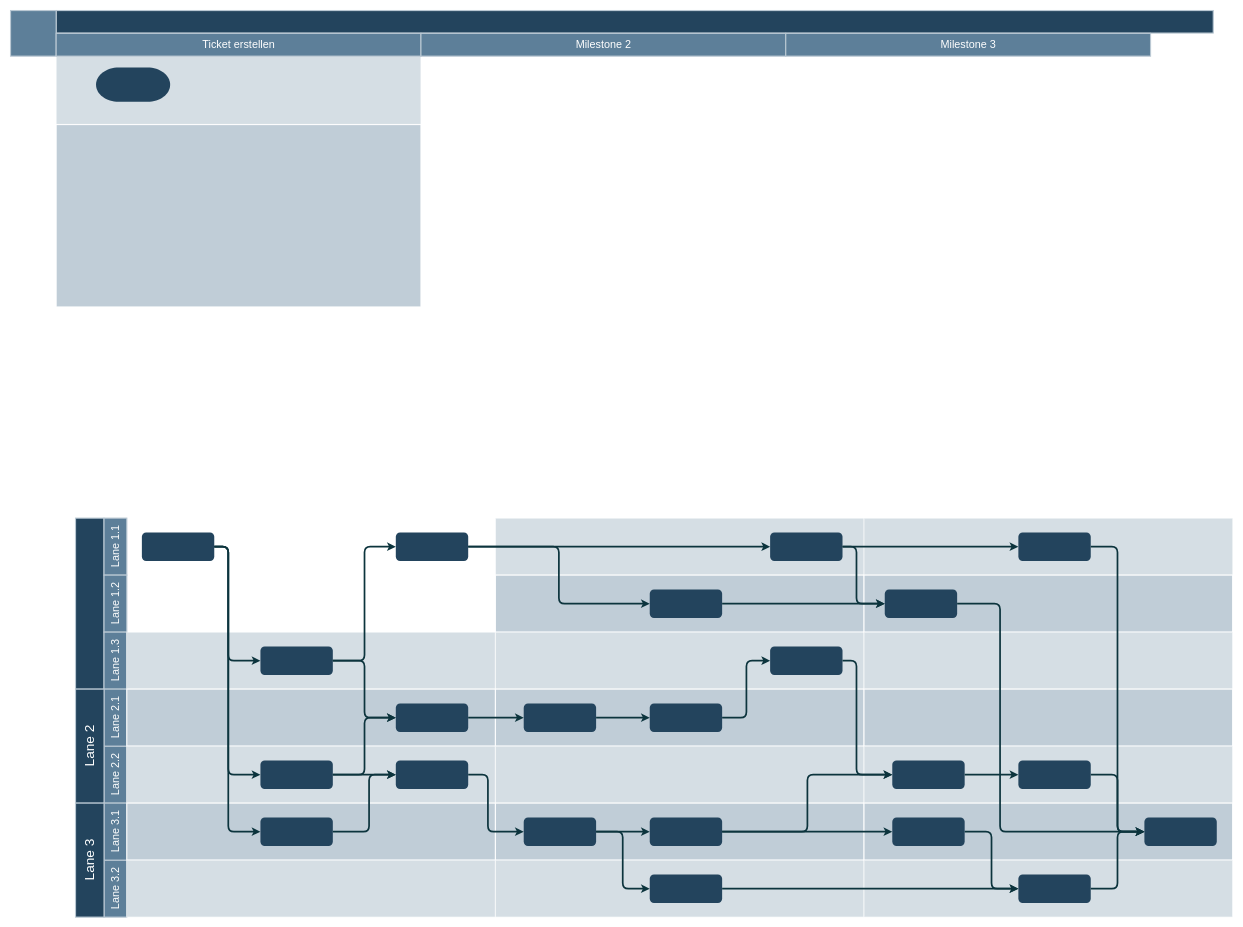
Some shapes in this 1243 by 927 pixel diagram are drawn without their labels. Each missing label, with the centre of its shape:
"Auftraggeber" goes at [133,84].
"Lane 1" goes at [89,603].
"Ticketsystem Konstruktion" goes at [634,21].
"v 1.0" goes at [33,33].
